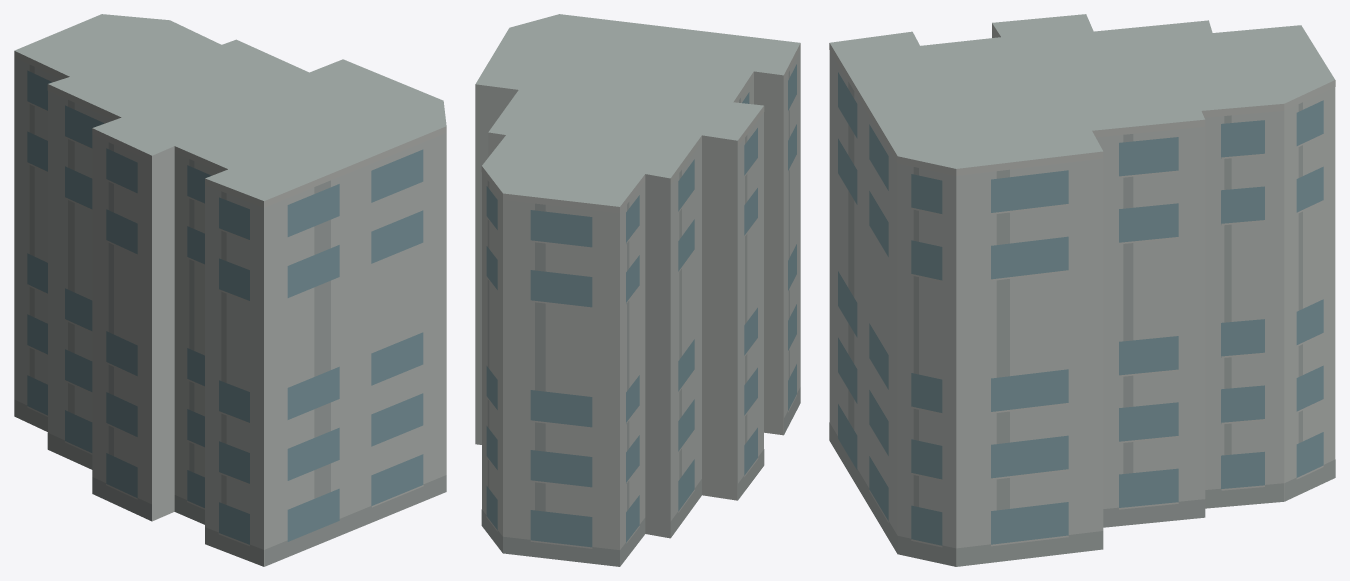
The model's file is survey-upis-32825886.glb.
3 renders of one model, left to right at view 1: azimuth 30°, elevation 25°; view 2: azimuth 150°, elevation 25°; view 3: azimuth 270°, elevation 25°, orthographic. The views are drawn at different scales.
Parts seen in each view (by area): view 1: survey-upis-32825886.tmp; view 2: survey-upis-32825886.tmp; view 3: survey-upis-32825886.tmp.
Part boxes in pixels (x1=…): survey-upis-32825886.tmp: x1=14, y1=14, x2=446, y2=566; survey-upis-32825886.tmp: x1=475, y1=14, x2=800, y2=566; survey-upis-32825886.tmp: x1=829, y1=14, x2=1335, y2=566.
Size of the model in its own units: 11.36 by 13.6 by 15.67.
